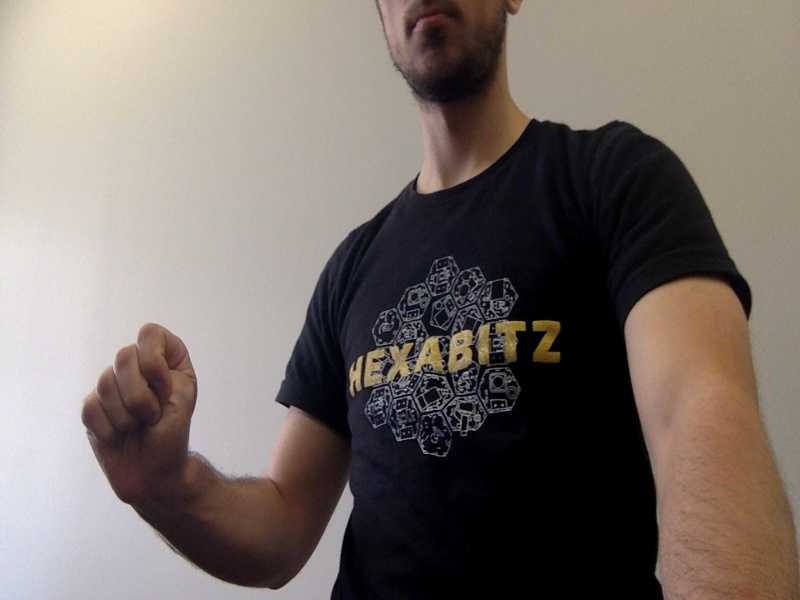0-hand: (83, 324, 196, 505)
